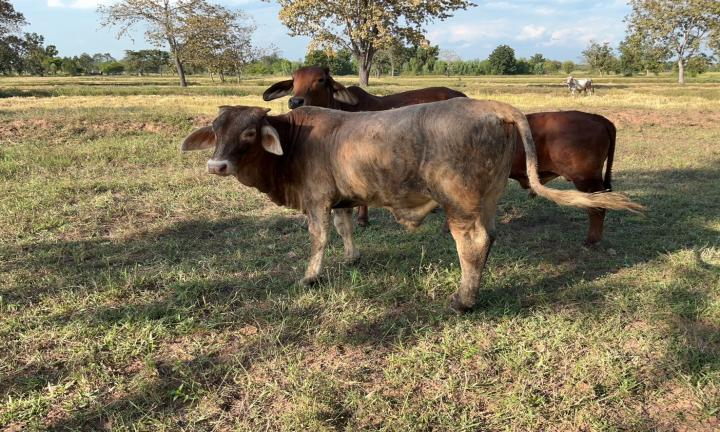Charolais: (181, 98, 643, 311)
